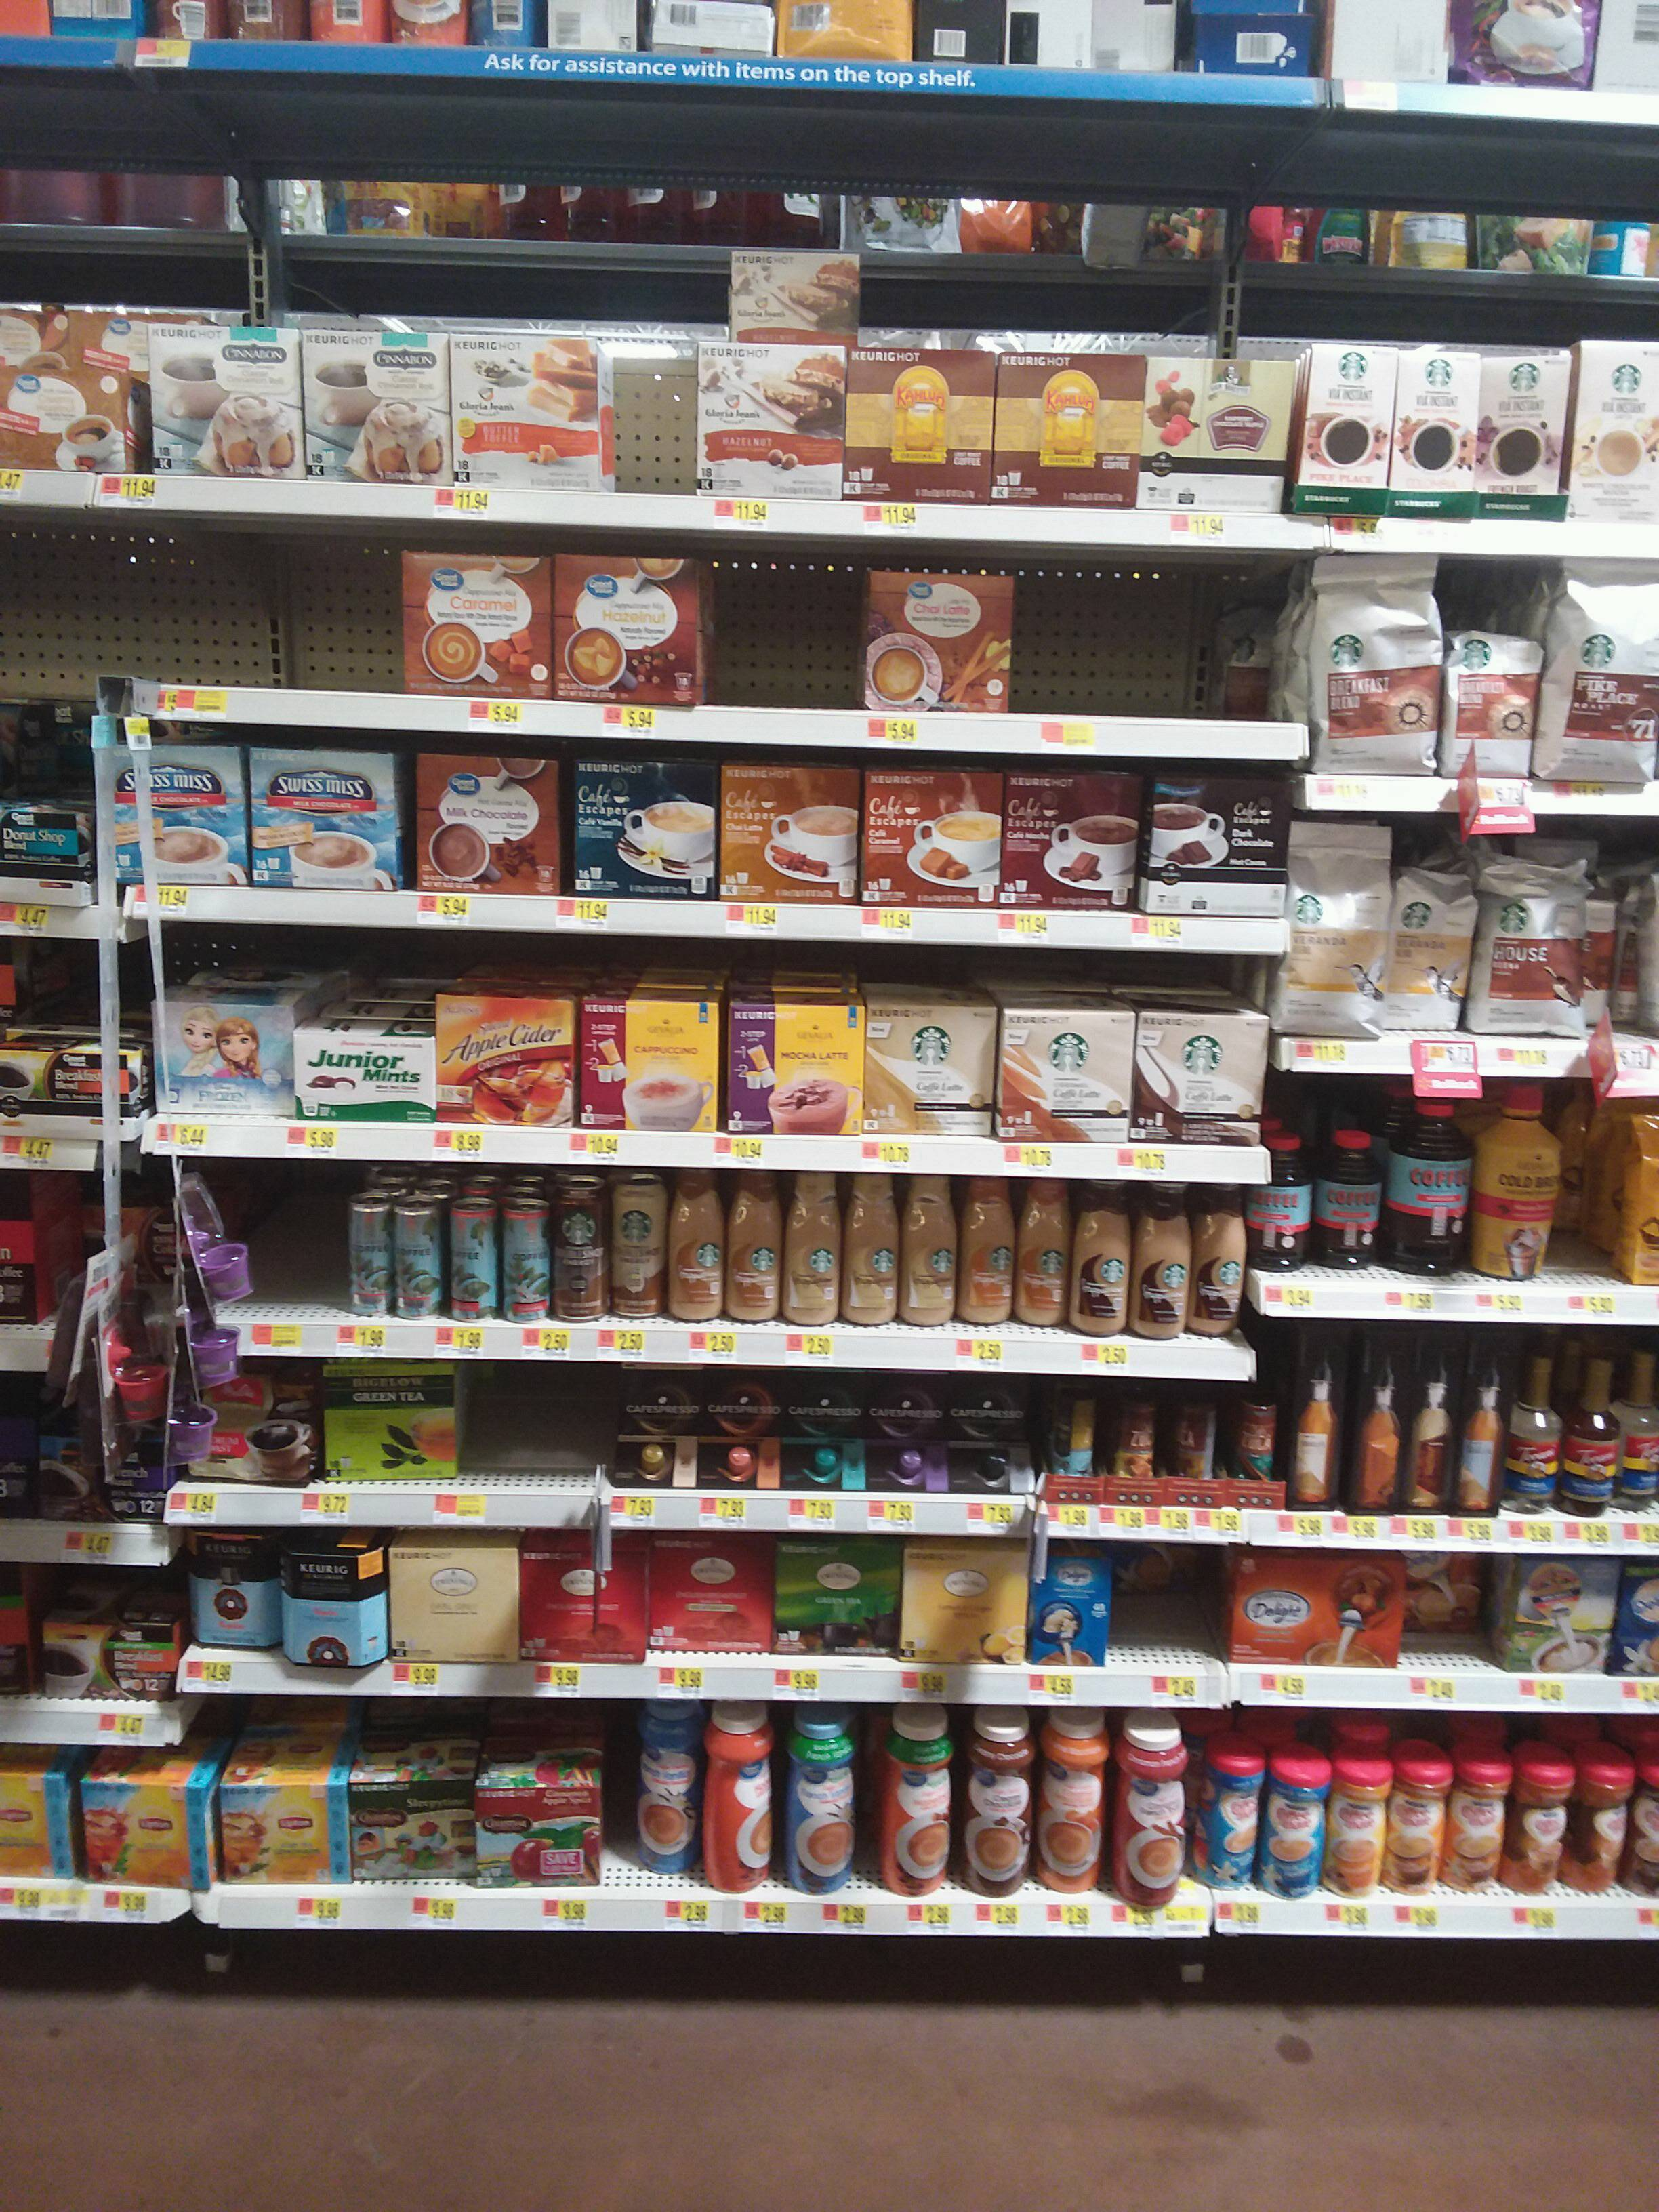Out-of-stock: (702, 561, 866, 707)
